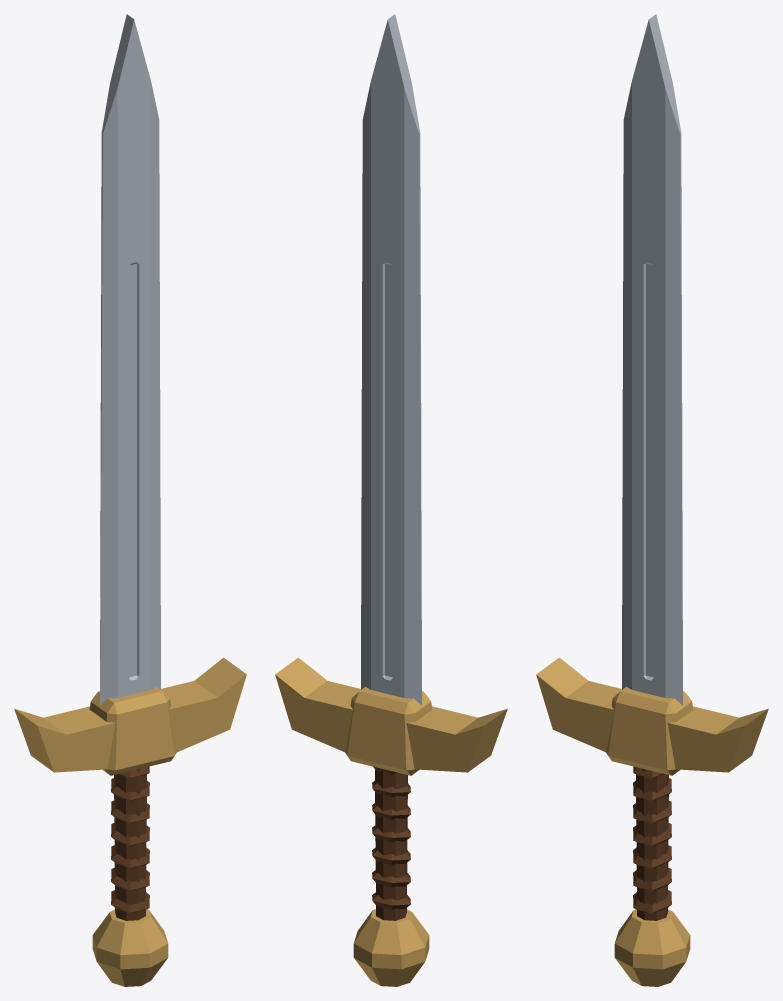
Rendered from fantasy_longsword.glb.
3 renders of one model, left to right at view 1: azimuth 30°, elevation 25°; view 2: azimuth 150°, elevation 25°; view 3: azimuth 330°, elevation 25°, orthographic.
Visible parts, largest first — view 1: blade, guard, guard_boss, pommel, grip; view 2: blade, guard, guard_boss, pommel, grip; view 3: blade, guard, guard_boss, pommel, grip.
Part boxes in pixels (bbox=[...]): blade: bbox=[100, 14, 160, 705]; guard: bbox=[14, 657, 246, 772]; guard_boss: bbox=[89, 687, 176, 775]; pommel: bbox=[92, 909, 168, 986]; grip: bbox=[114, 768, 146, 920]; blade: bbox=[361, 14, 421, 705]; guard: bbox=[275, 657, 507, 772]; guard_boss: bbox=[345, 687, 432, 775]; pommel: bbox=[353, 909, 429, 986]; grip: bbox=[375, 769, 407, 920]; blade: bbox=[622, 14, 682, 705]; guard: bbox=[536, 657, 768, 772]; guard_boss: bbox=[606, 687, 693, 775]; pommel: bbox=[614, 909, 690, 986]; grip: bbox=[636, 768, 668, 920].
Size of what is drawn, in the model's own units: 0.26 by 1.14 by 0.084.
